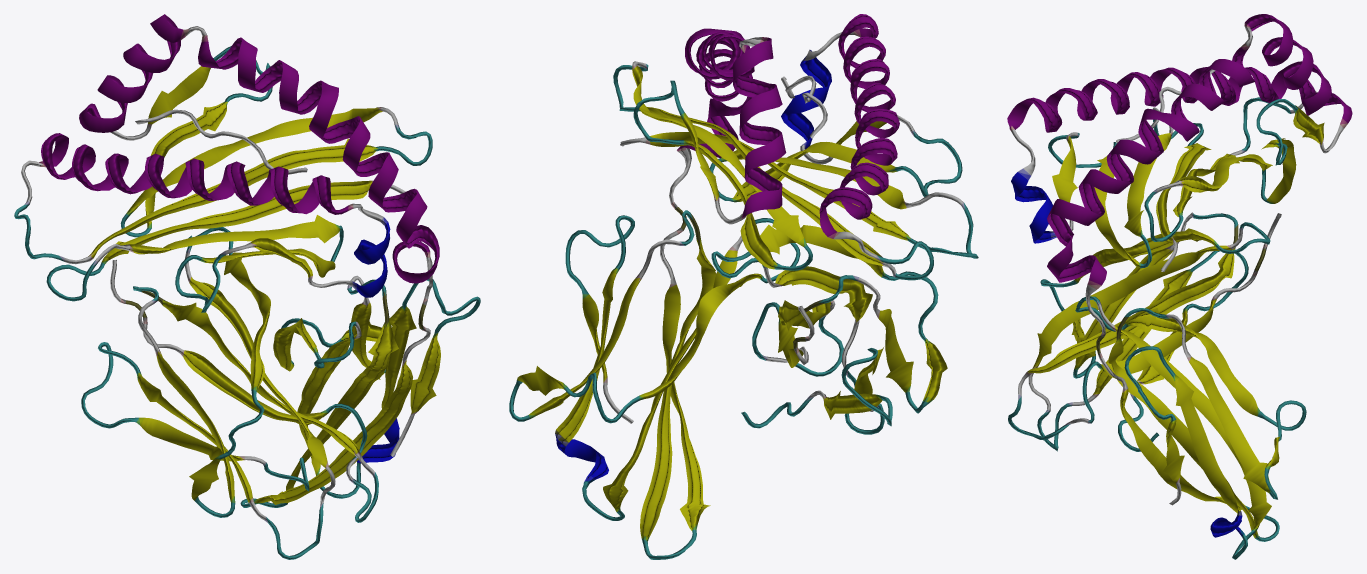
The model's file is 2vaa-ribbon-3.obj.
3 renders of one model, left to right at view 1: azimuth 30°, elevation 25°; view 2: azimuth 150°, elevation 25°; view 3: azimuth 270°, elevation 25°, orthographic. The views are drawn at different scales.
Parts seen in each view (by area): view 1: vmd_mol0_rep0; view 2: vmd_mol0_rep0; view 3: vmd_mol0_rep0.
Boxes of the visible parts, x1,y1,x2,y2 form: vmd_mol0_rep0: (14,14,480,559); vmd_mol0_rep0: (509,14,978,559); vmd_mol0_rep0: (1007,14,1352,559).
Size of the model in its own units: 2.47 by 2.97 by 1.94.
